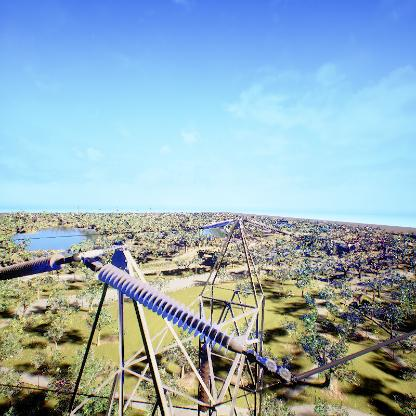insulator: (97, 261, 237, 353), (1, 252, 68, 281), (200, 345, 210, 412), (199, 219, 235, 230)
